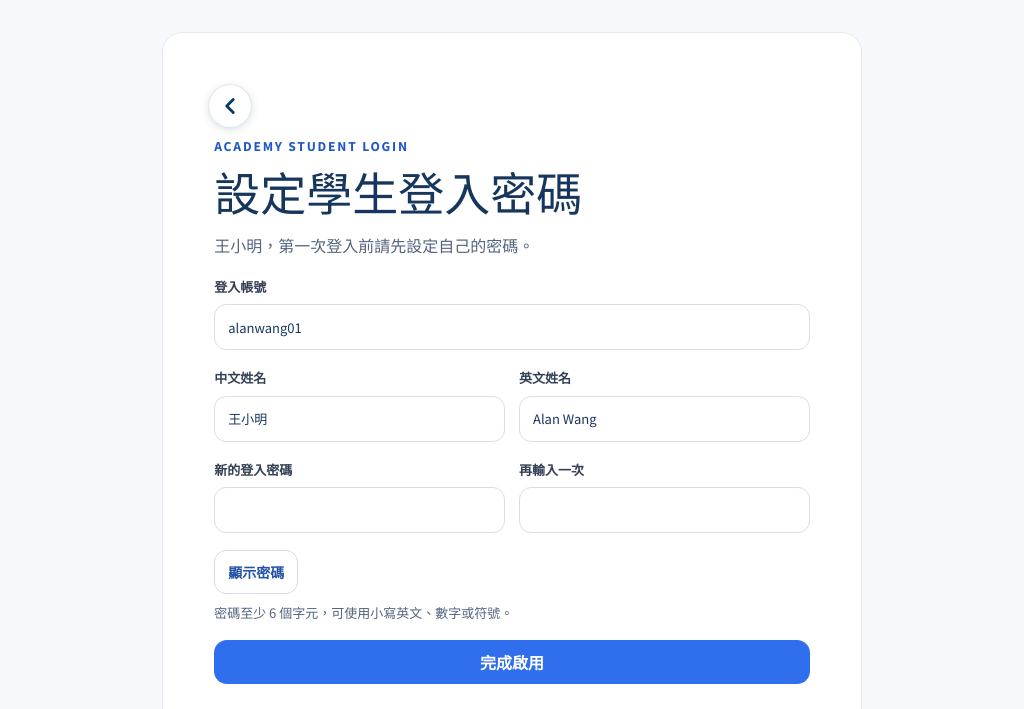
it: AcademyStudentSetup › explains why a password shorter than six characters cannot be submitted
In the password field labelled "新的登入密碼": {"x": 360, "y": 510} [214,487,505,533], type "abc"
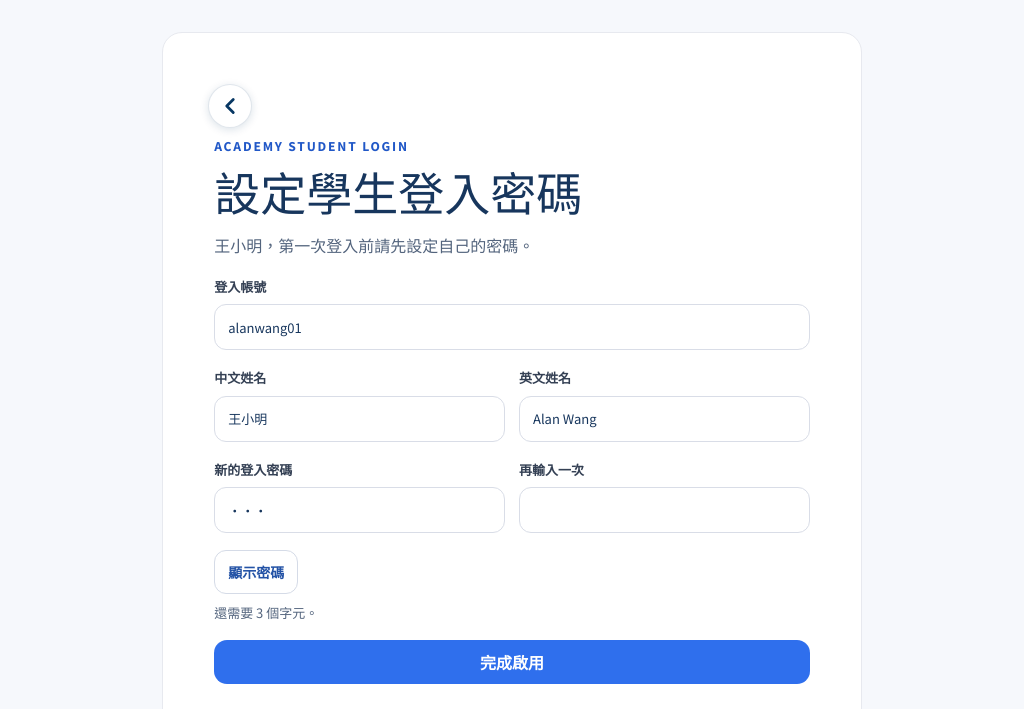
In the password field labelled "再輸入一次": {"x": 664, "y": 510} [519,487,810,533], type "abc"
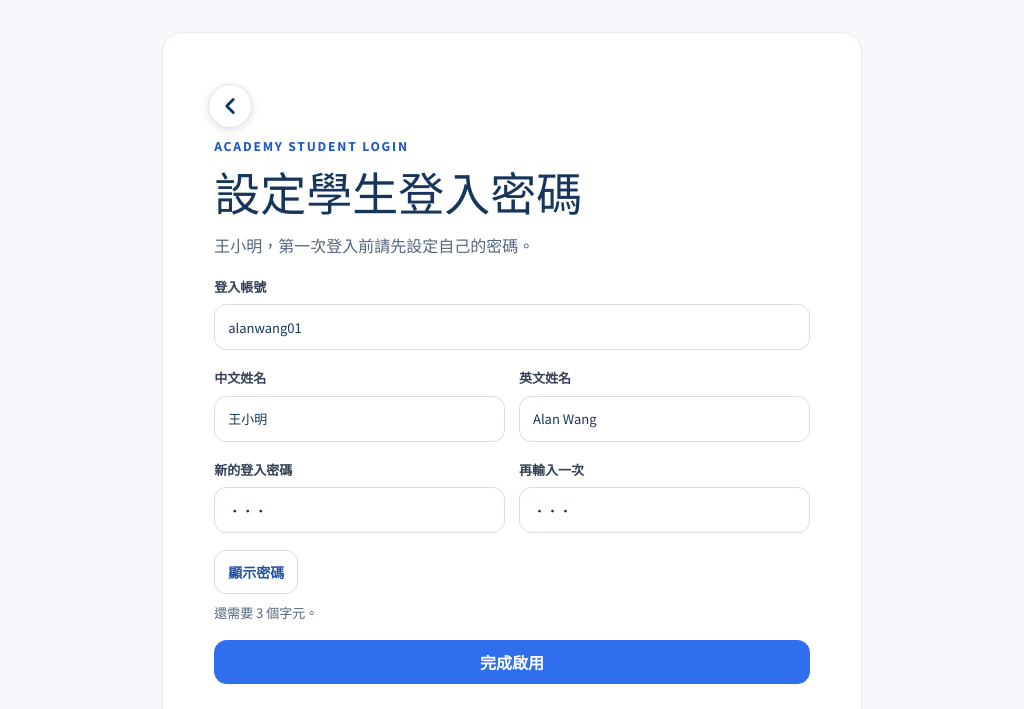
Expected: the text "還需要 3 個字元。" is shown, [214,603,318,622]
Submit the form "完成啟用", box [214,276,810,684]
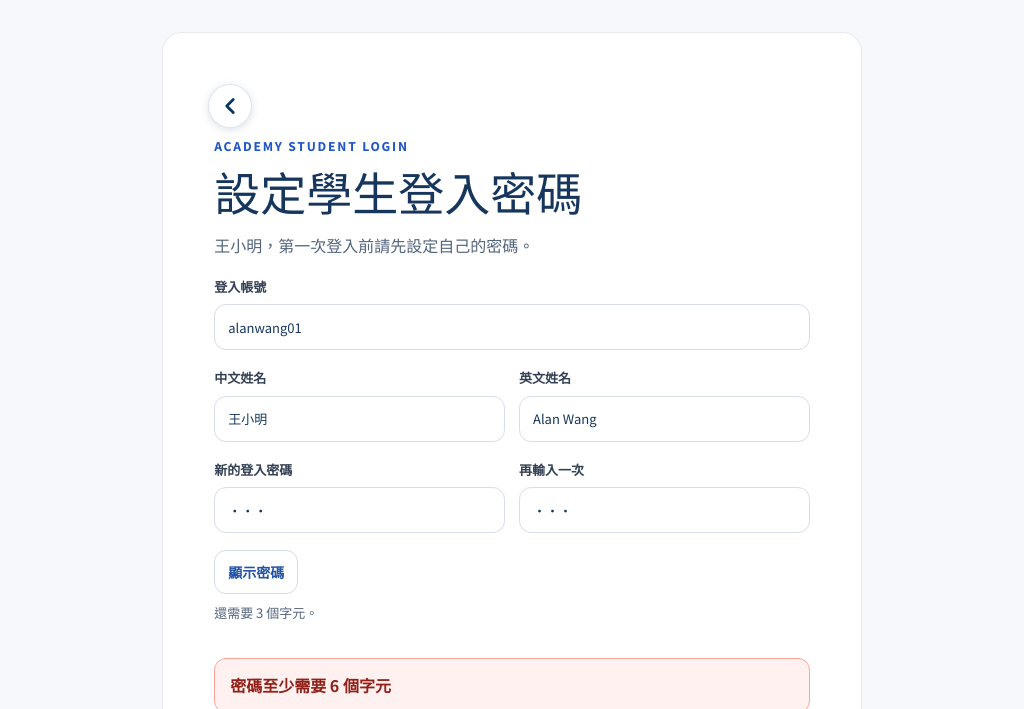
Expected: the message reads "密碼至少需要 6 個字元", [230,673,391,697]
